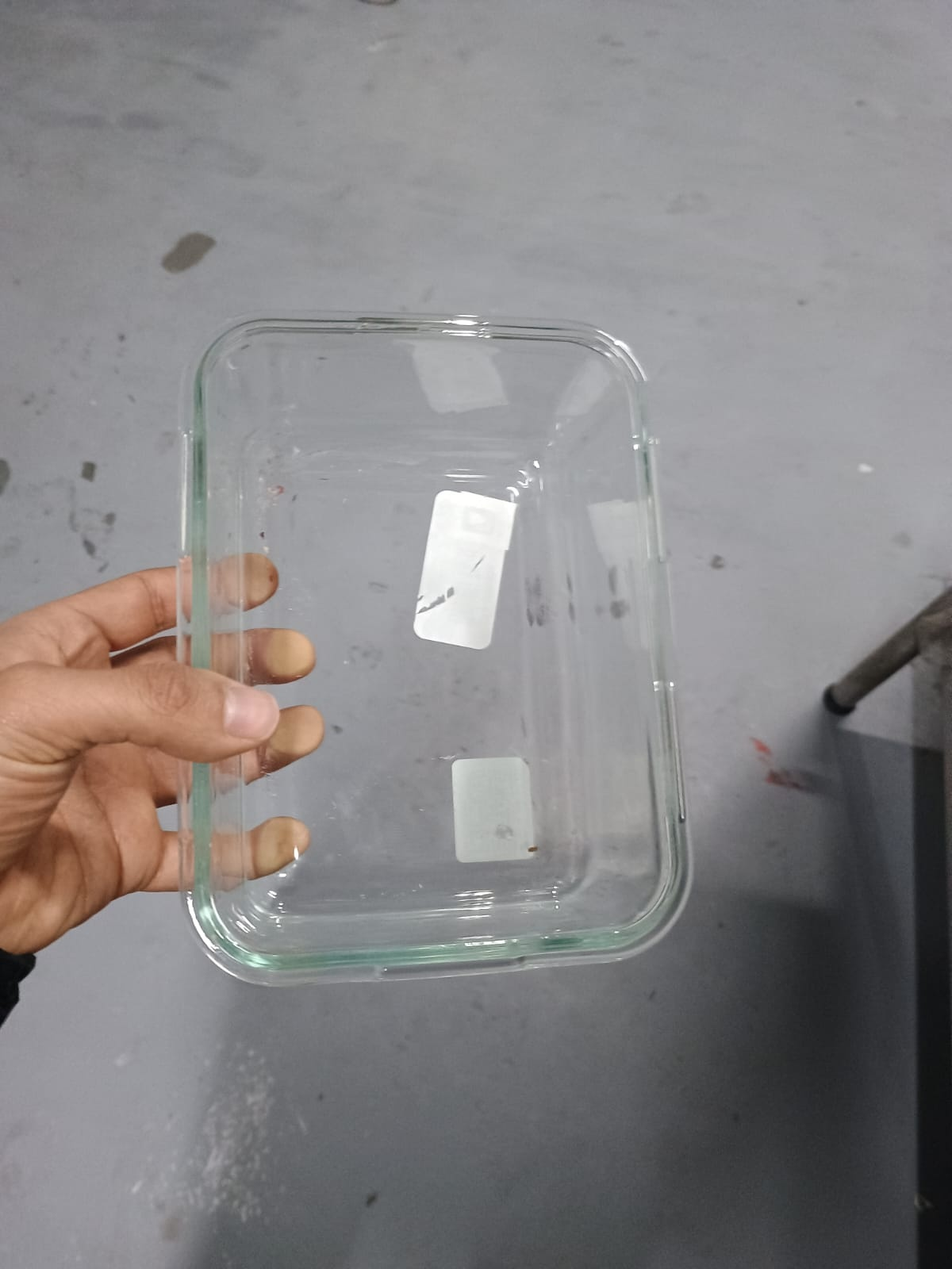Vidrio: (177, 313, 696, 988)
